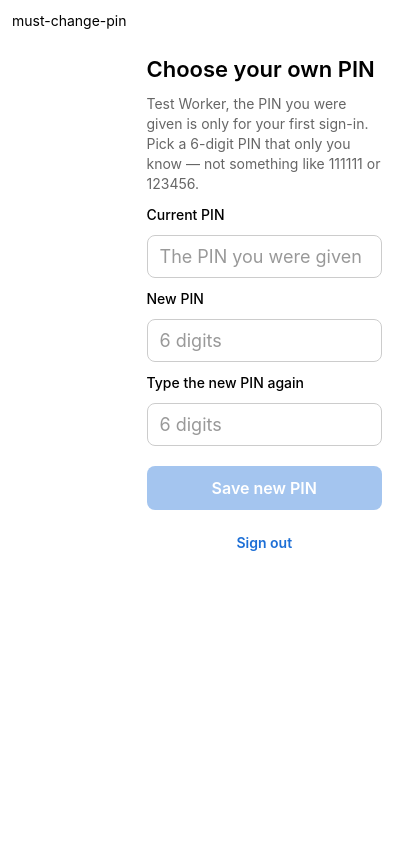
Scenario: ChangePinScreen › 422 weak_pin: shows the server's reason and stays on the screen
Expected: the text "Choose your own PIN" is shown, top-left (146, 56), bottom-right (382, 82)
Type "482913" into the password field with placeholder "The PIN you were given" at (264, 256), box top-left (146, 235), bottom-right (382, 278)
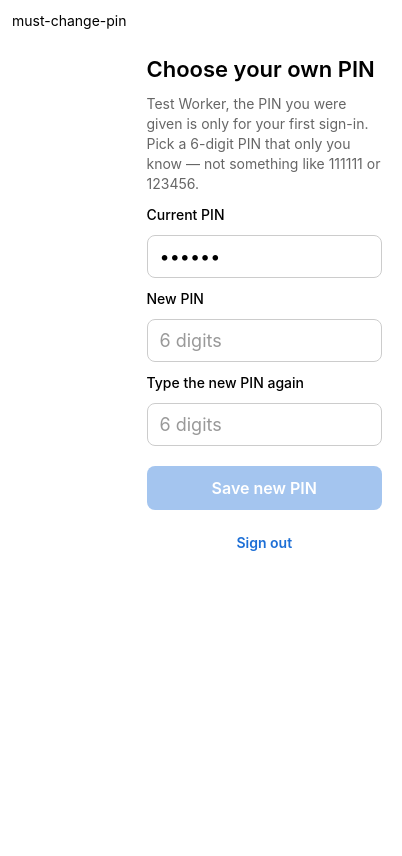
Type "123456" into the 1st password field with placeholder "6 digits" at (264, 340), box top-left (146, 319), bottom-right (382, 362)
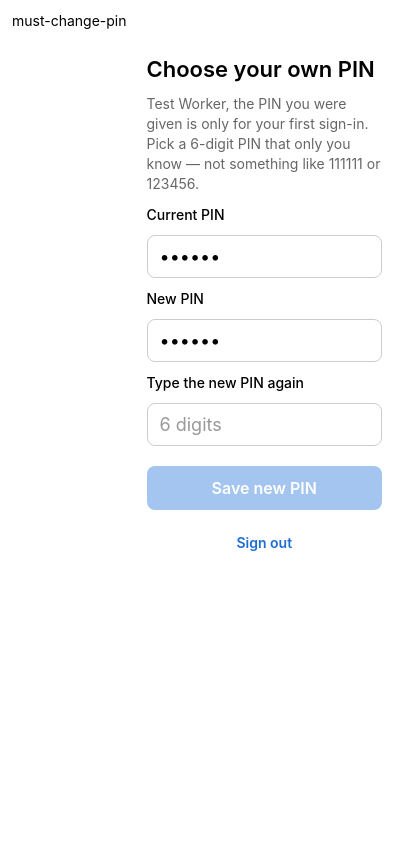
Type "123456" into the password field with placeholder "6 digits" at (264, 424), box top-left (146, 403), bottom-right (382, 446)
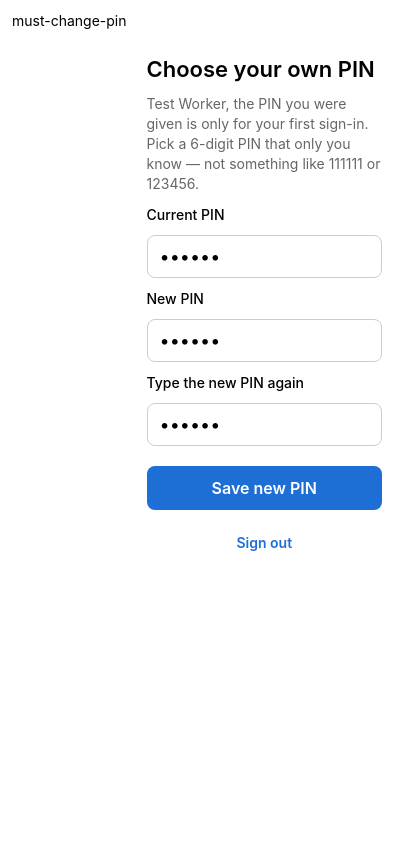
Click the button "Save new PIN" at (264, 488), box top-left (146, 466), bottom-right (382, 510)
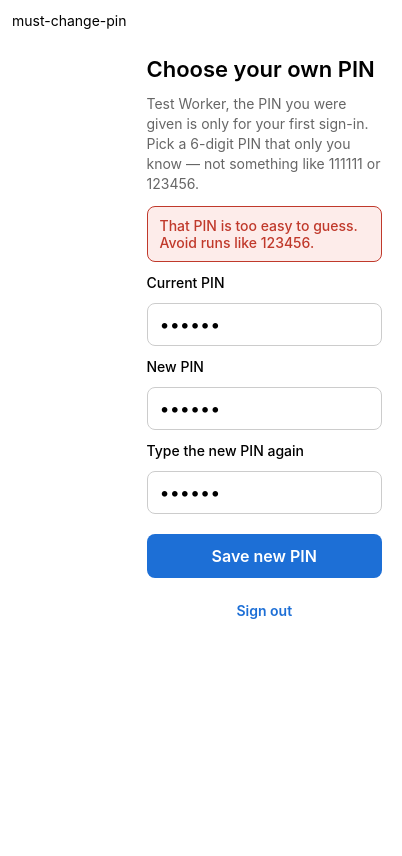
Expected: the text with test id "auth-probe" reads "must-change-pin", top-left (12, 12), bottom-right (126, 29)
Expected: the text "That PIN is too easy to guess. Avoid runs like 123456." is shown, top-left (160, 217), bottom-right (369, 251)
